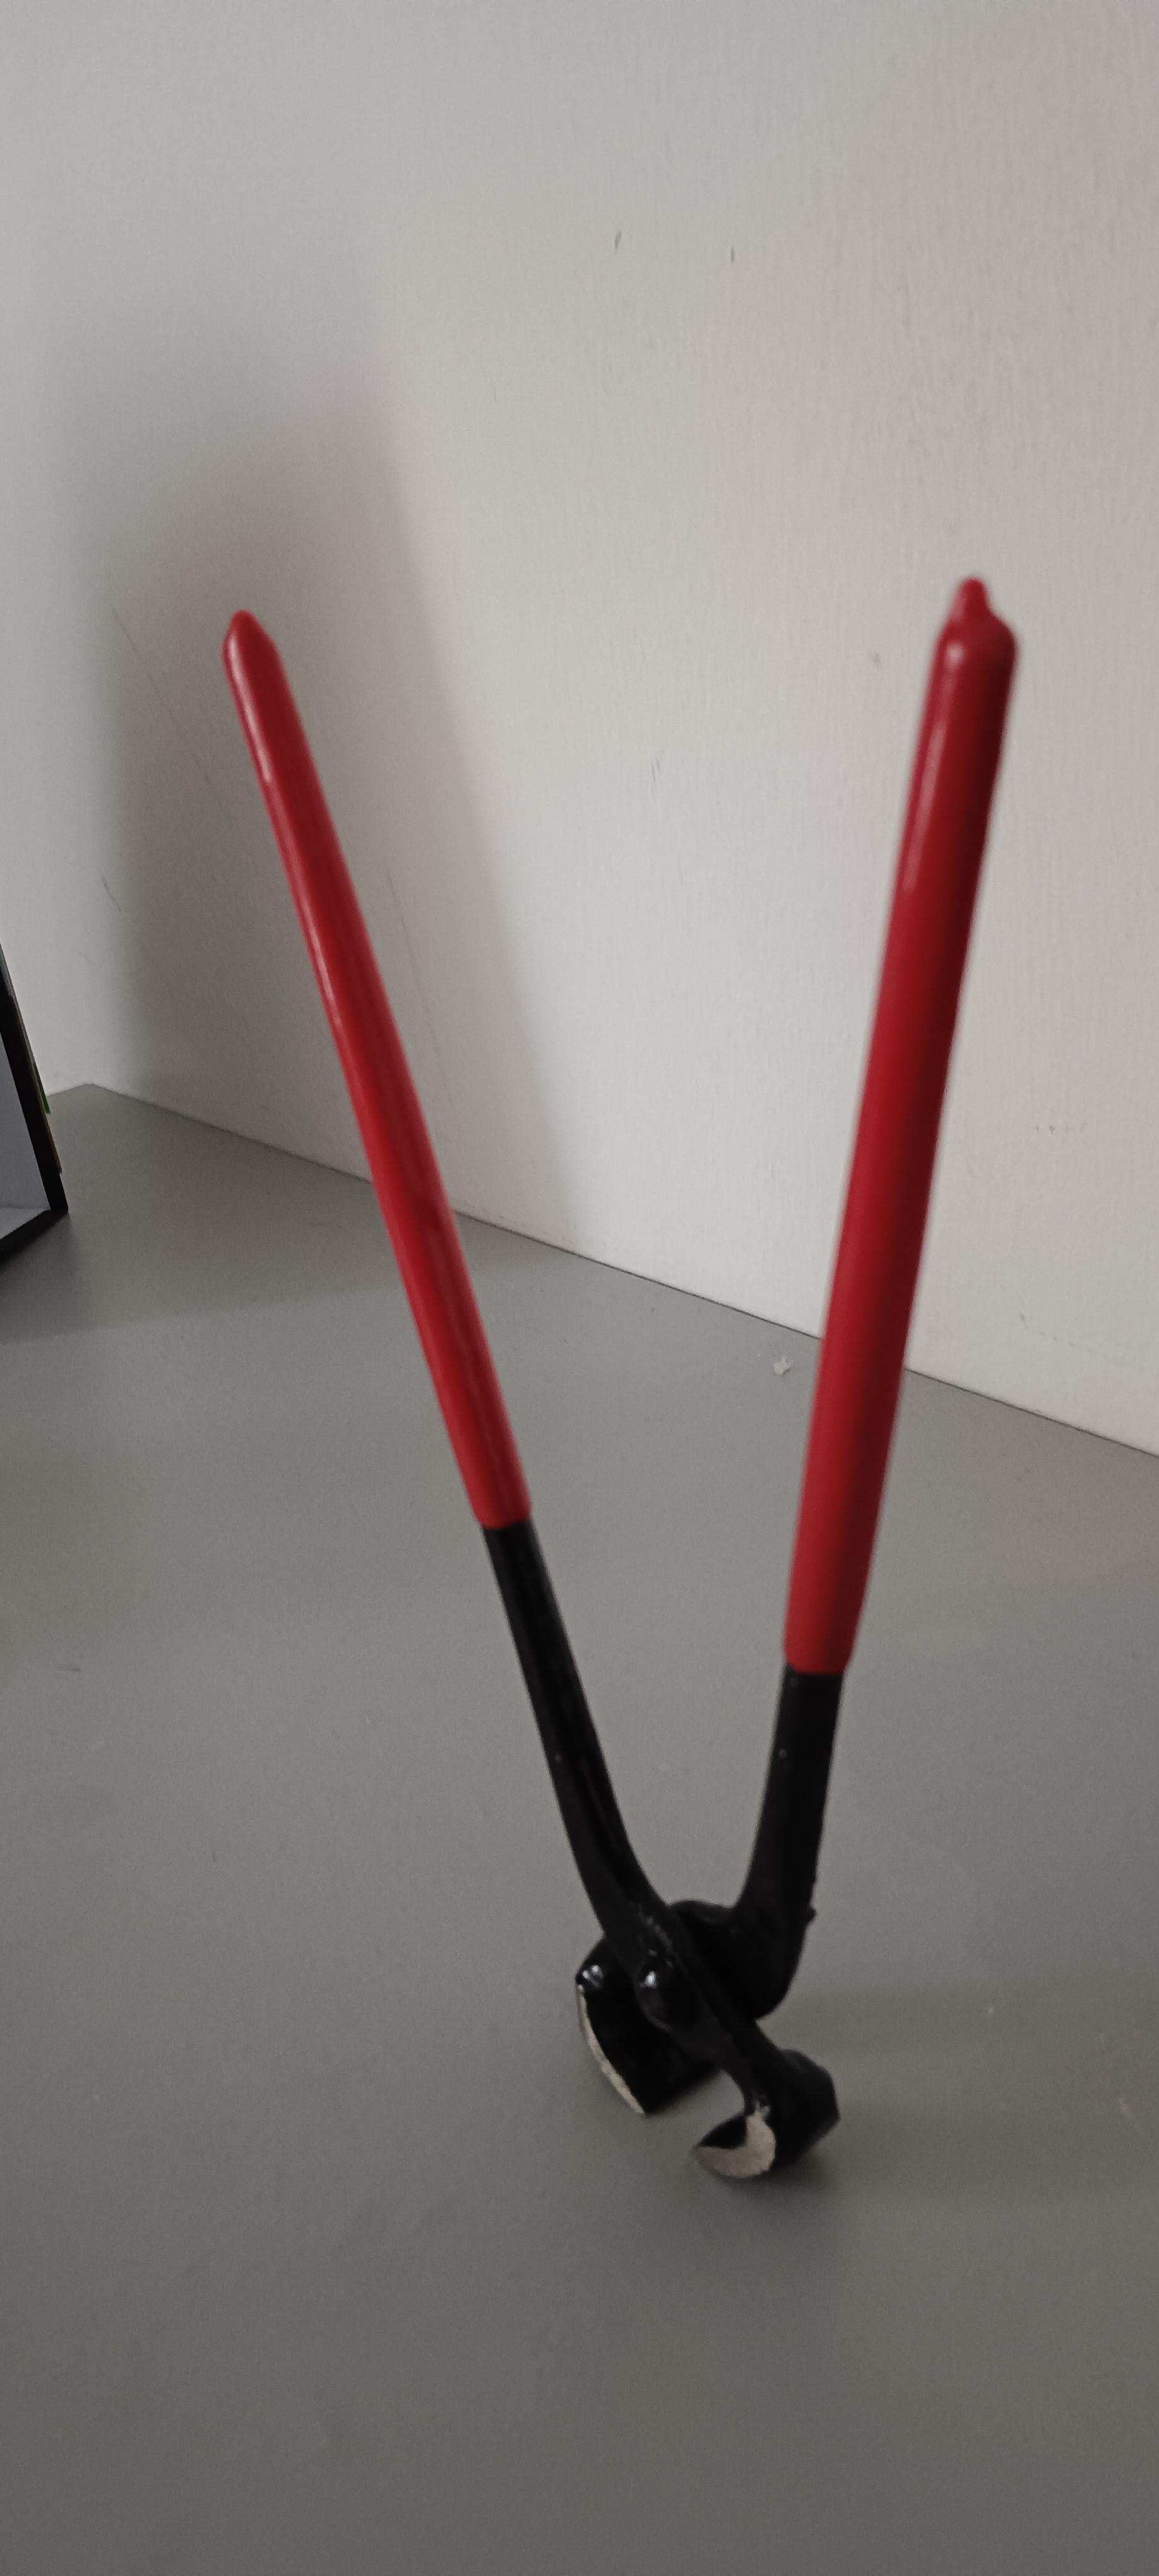Pincers: (181, 545, 1061, 2213)
